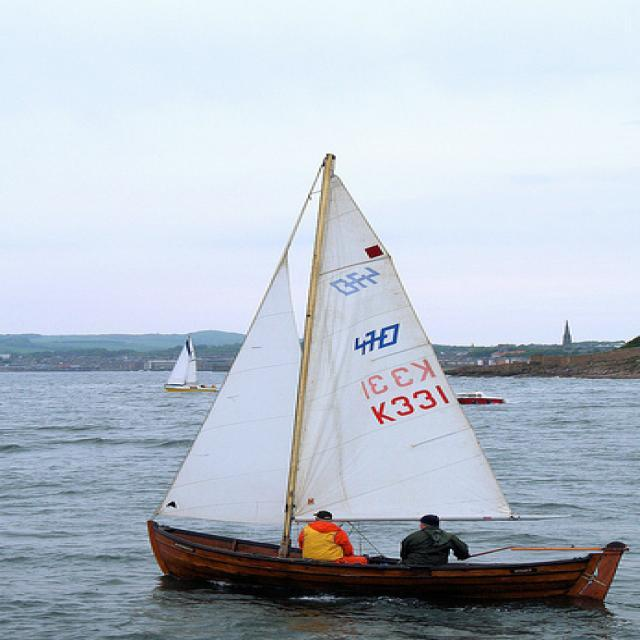Ship: (139, 158, 621, 620), (161, 340, 222, 391)
